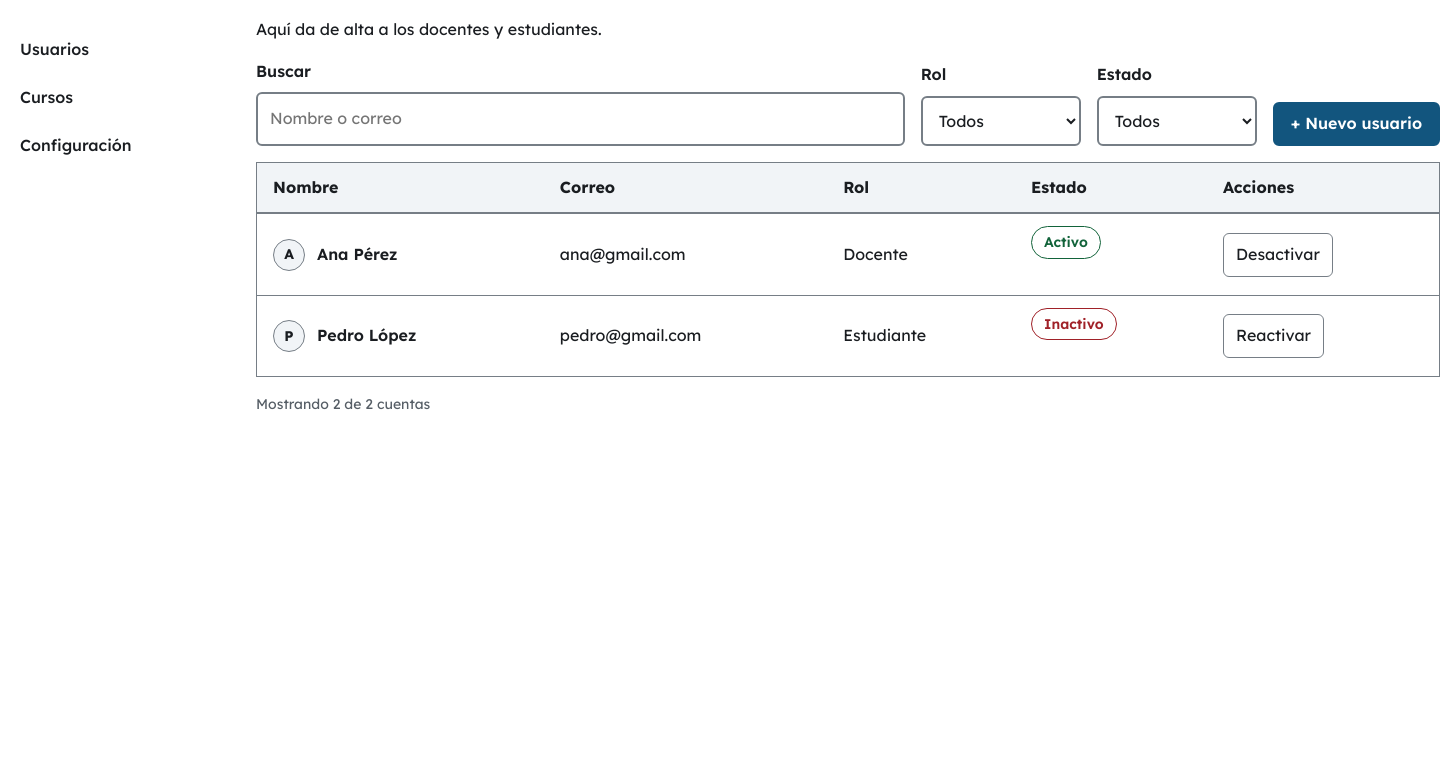
Gestión de usuarios › el alta envía los datos y confirma
Click the button "+ Nuevo usuario" at (1356, 124), box [1273, 102, 1439, 146]
(page scrolled)
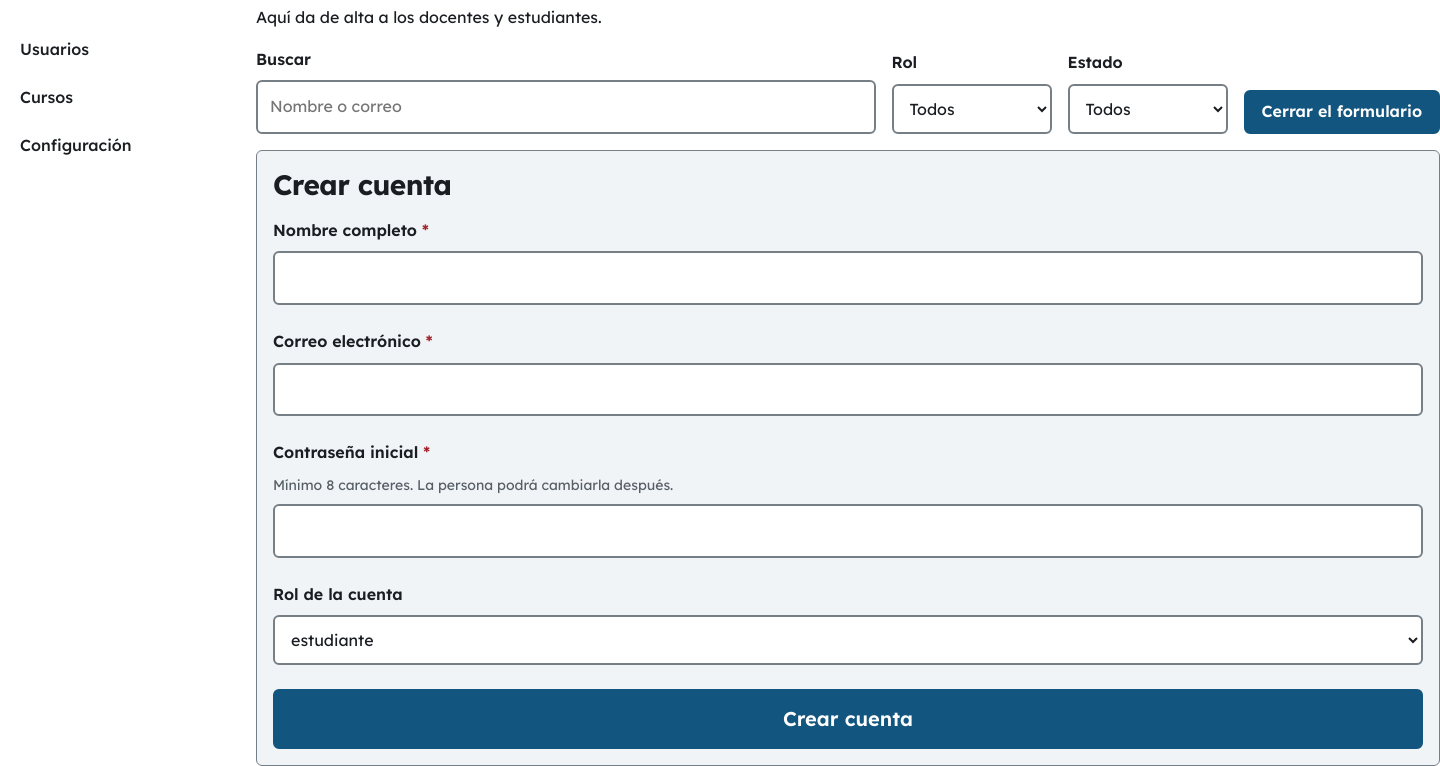
Type "Luis Morales" into the field labelled "Nombre completo *" at (848, 278), box [273, 251, 1423, 305]
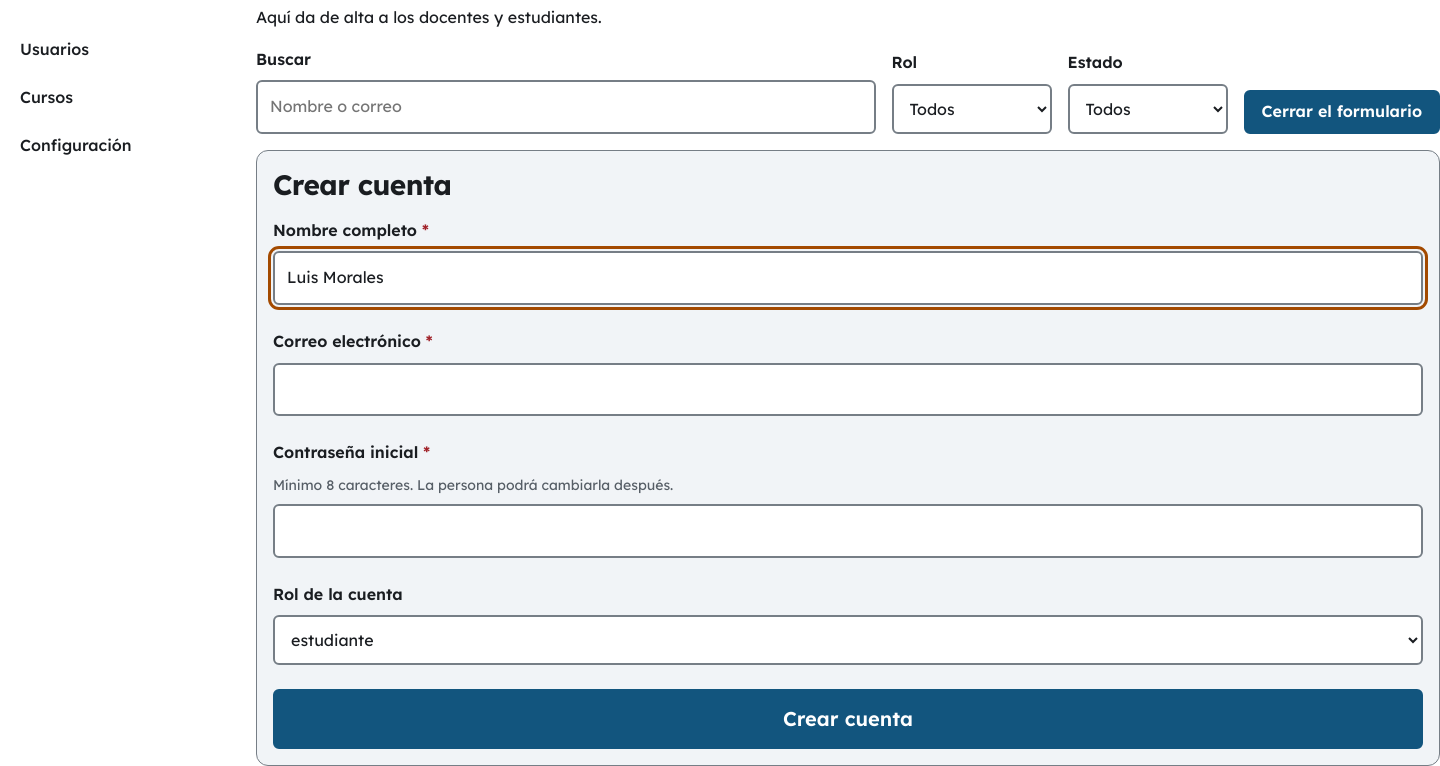
Type "luis@gmail.com" into the field labelled "Correo electrónico *" at (848, 389), box [273, 363, 1423, 416]
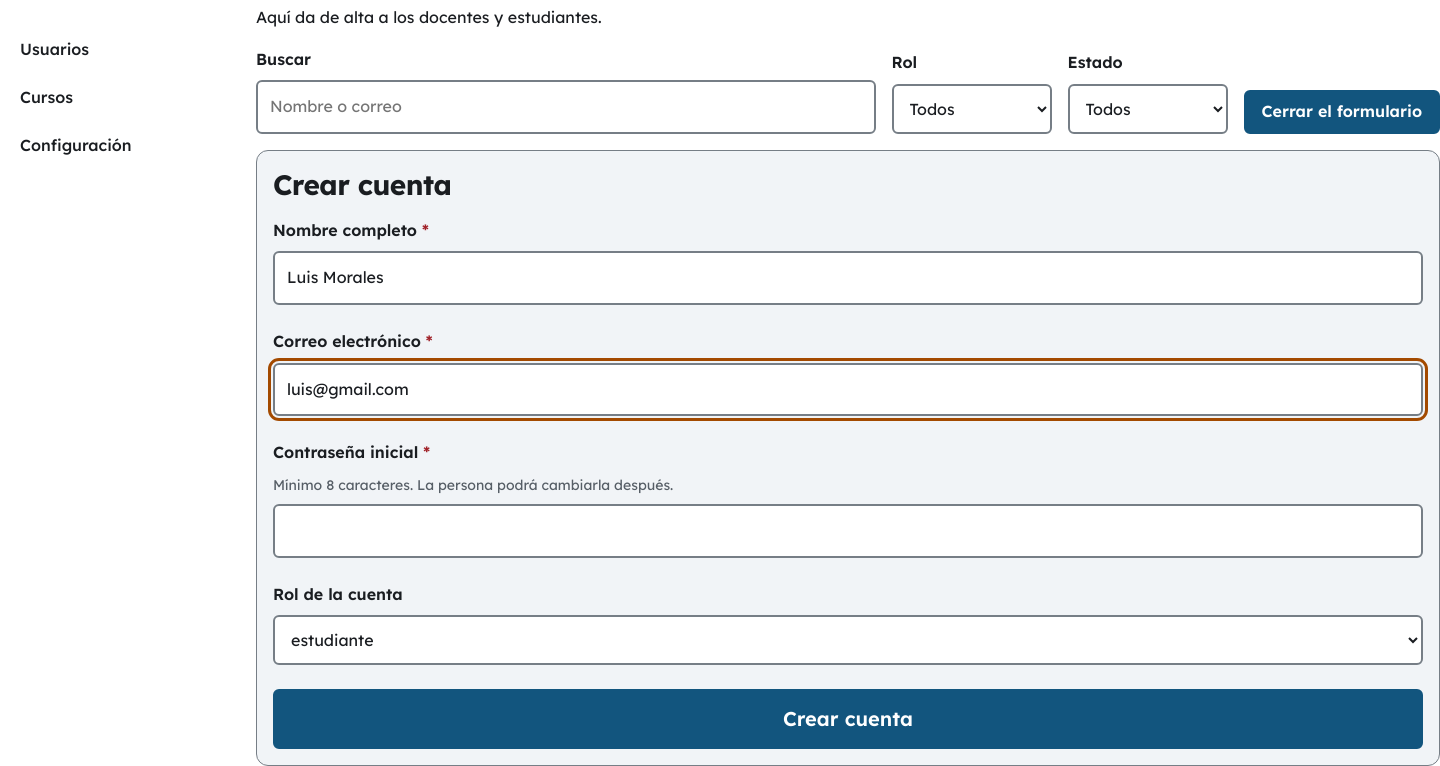
Type "Docente456" into the password field labelled "Contraseña inicial *" at (848, 531), box [273, 504, 1423, 558]
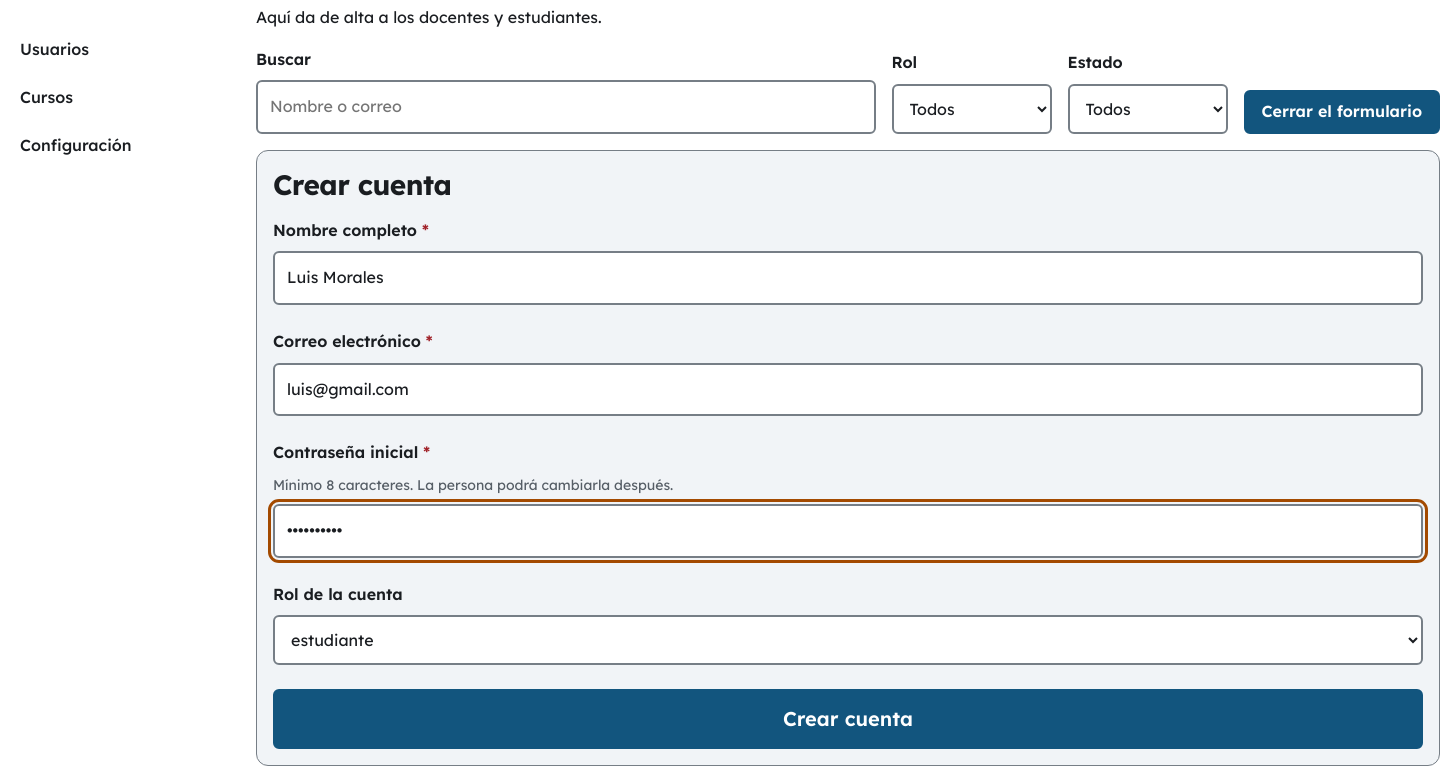
Select "docente" in the dropdown labelled "Rol de la cuenta" at (848, 640), box [273, 615, 1423, 665]
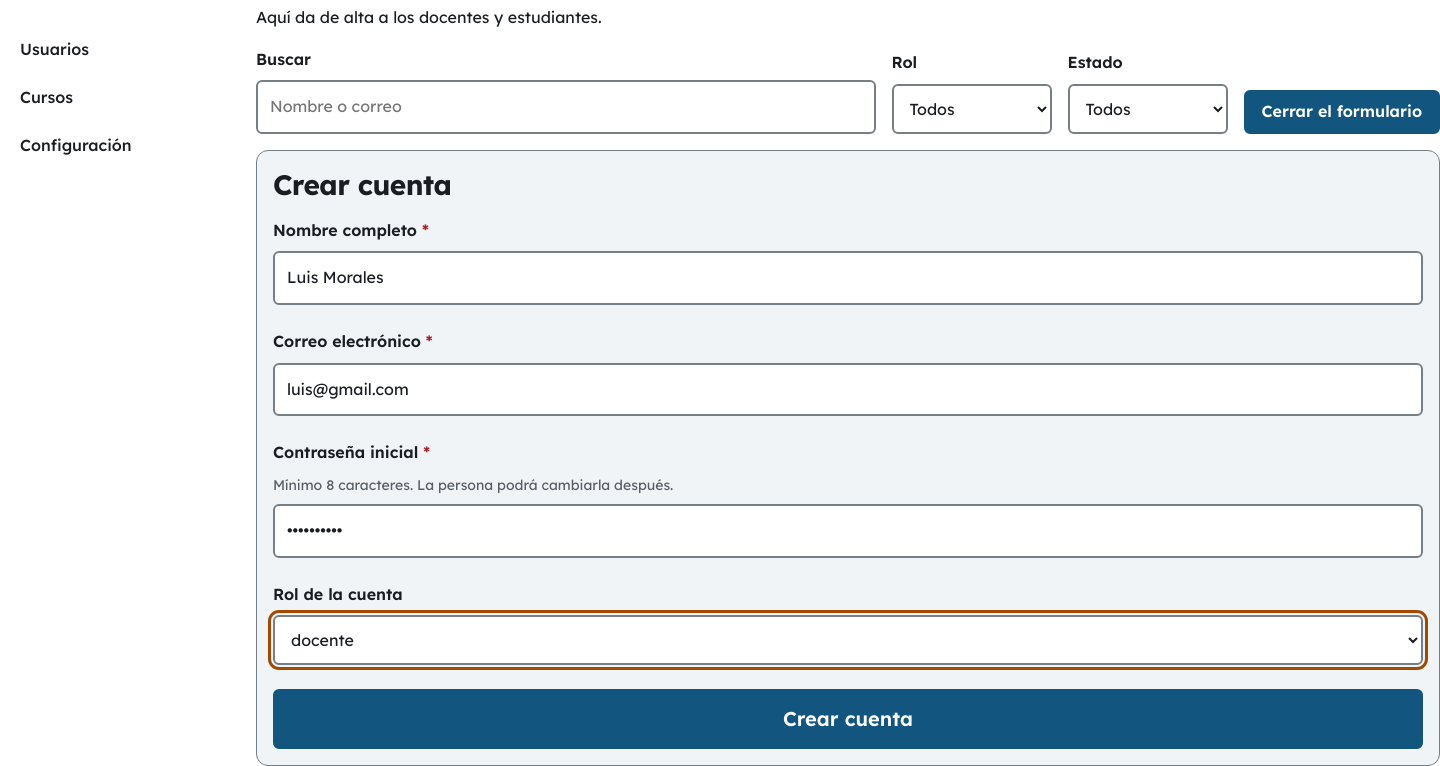
Click the button "Crear cuenta" at (848, 719), box [273, 689, 1423, 749]
(page scrolled)
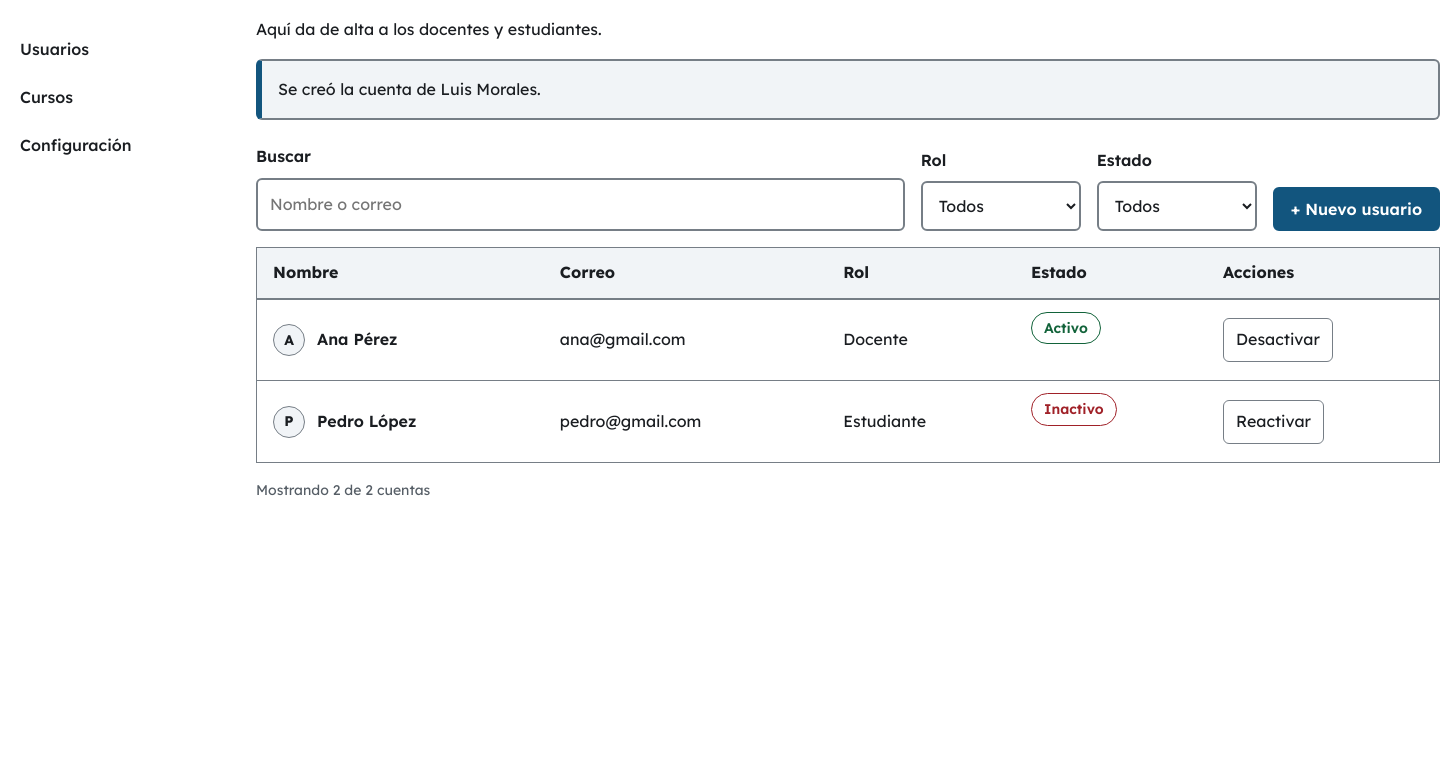
Now the message shows "Se creó la cuenta de Luis Morales", box [278, 79, 541, 99]
